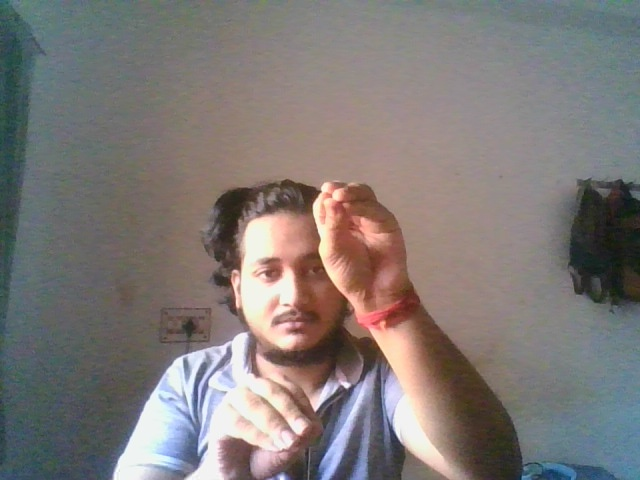Mouth: (206, 373, 323, 480), (312, 181, 410, 293)
